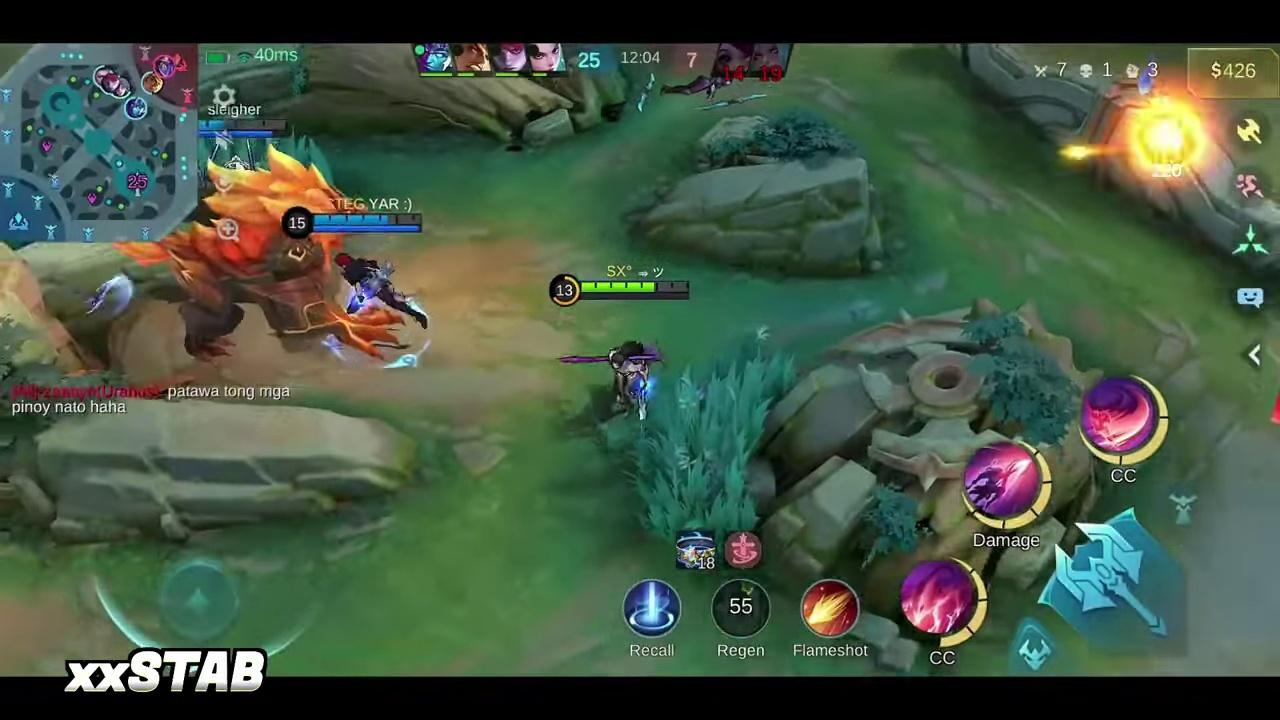bush: (631, 340, 790, 540)
hp_self: (583, 282, 689, 292)
red_baff: (145, 174, 404, 345)
